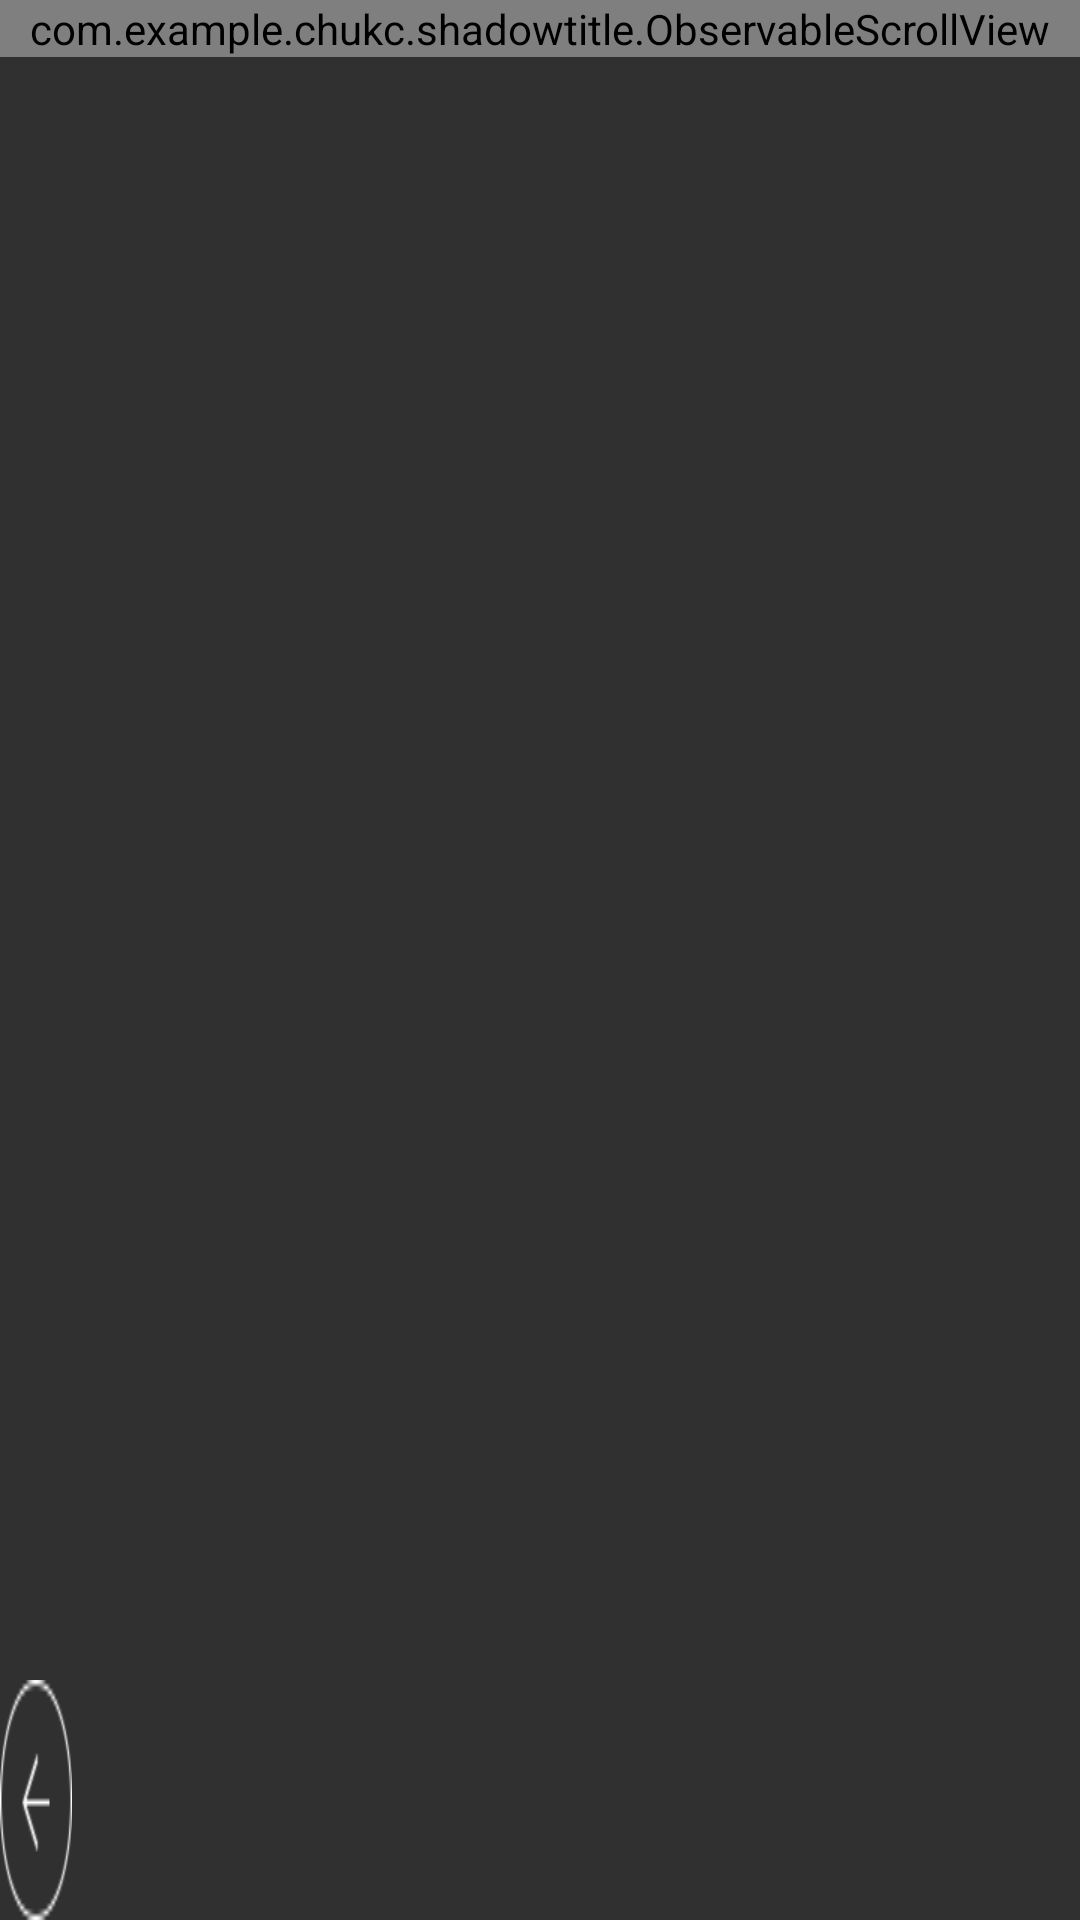

Icon click points for this 1080×1920 phone screenshot, format (x=x, y=y):
fanhui: (x=36, y=1800)
